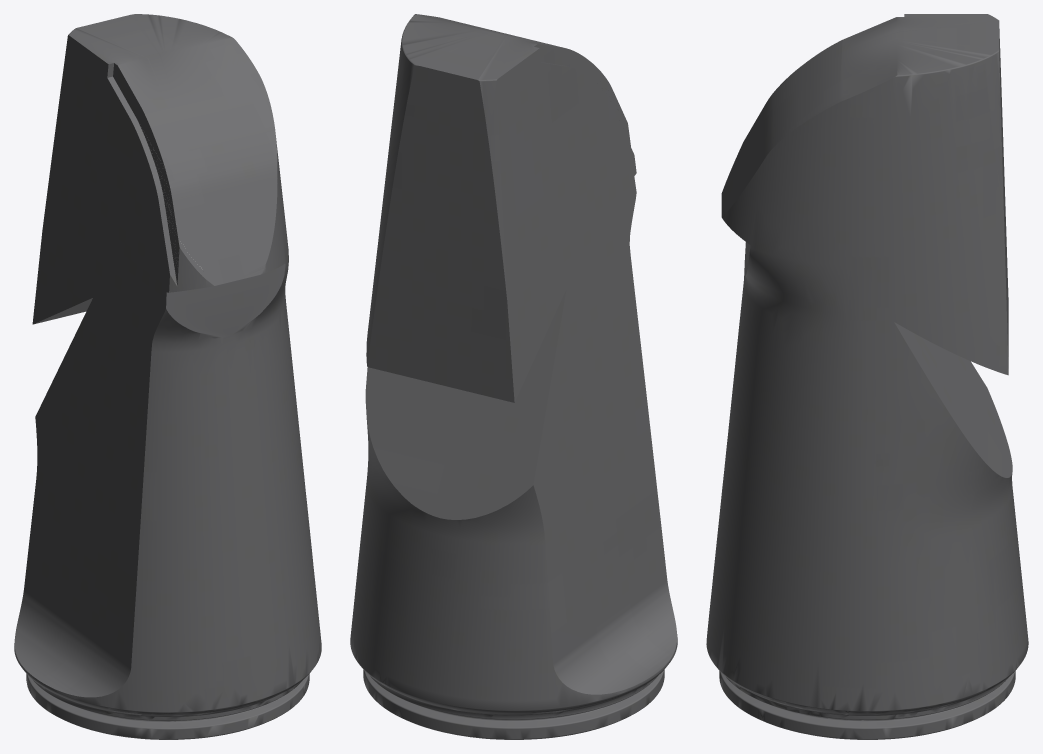
Rendered from knight-black-hd.glb.
3 views of the same model, side by side, from view 1: azimuth 30°, elevation 25°; view 2: azimuth 150°, elevation 25°; view 3: azimuth 270°, elevation 25° (orthographic). The views are drawn at different scales.
Parts seen in each view (by area): view 1: 04_jezdec_cerna; view 2: 04_jezdec_cerna; view 3: 04_jezdec_cerna.
Boxes of the visible parts, left/top/right/bottom form: 04_jezdec_cerna: left=14, top=14, right=321, bottom=739; 04_jezdec_cerna: left=350, top=14, right=677, bottom=739; 04_jezdec_cerna: left=706, top=14, right=1028, bottom=739.
Bounding box in the file's own units: 0.6398 × 1.41 × 0.6397.
1 material, 1 textured.
